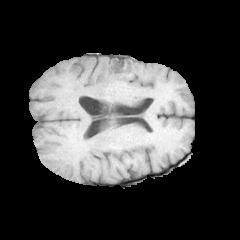glioma: (69, 58, 140, 97)
